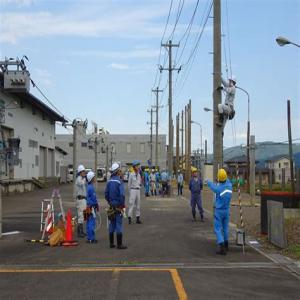blue: (132, 161, 140, 173)
white: (112, 163, 122, 180), (87, 170, 97, 187), (78, 164, 87, 179)
yellow: (218, 168, 228, 186), (192, 168, 199, 179)
